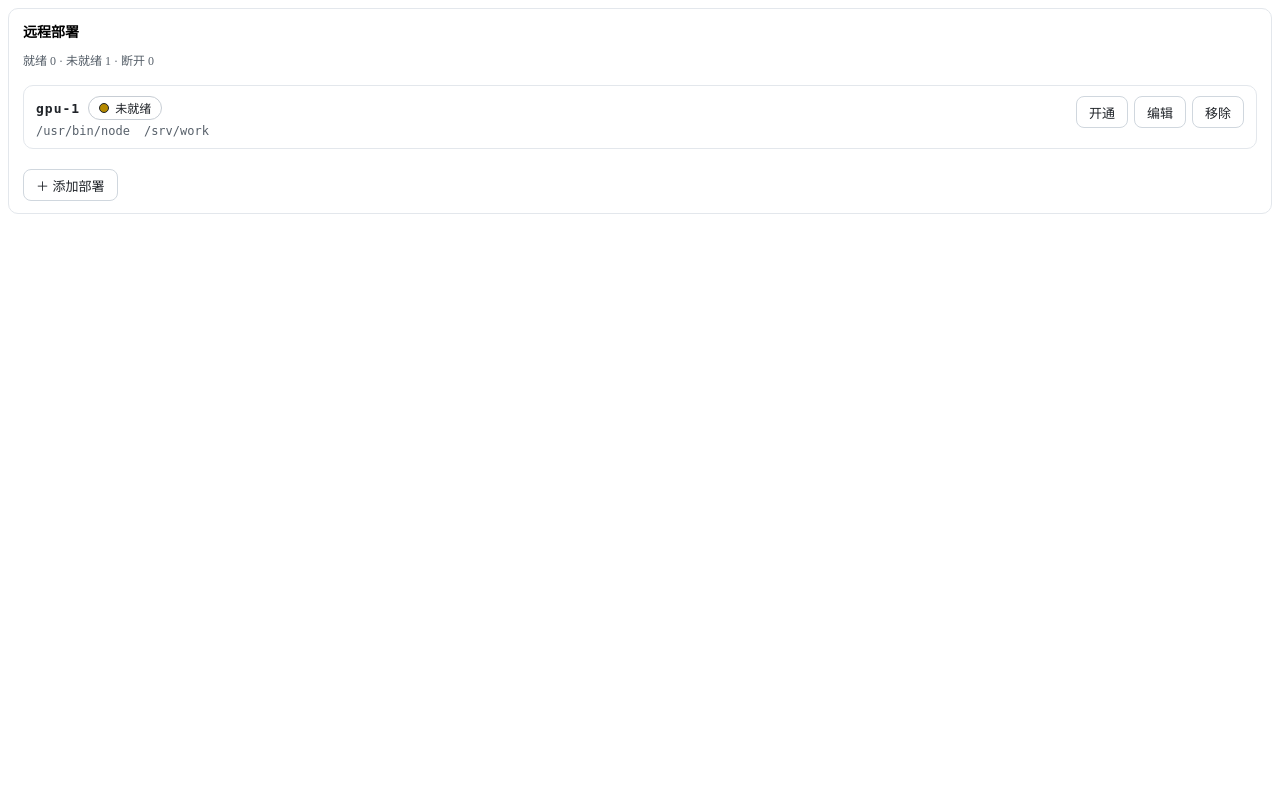
Scenario: DeployFormModal 新增/编辑 › `~` 前缀与重复别名由 host 校验回显（路径不变式）
This screenshot has width=1280, height=800.
Click the button with test id "deploy-add" at (70, 185), box [23,169,118,201]
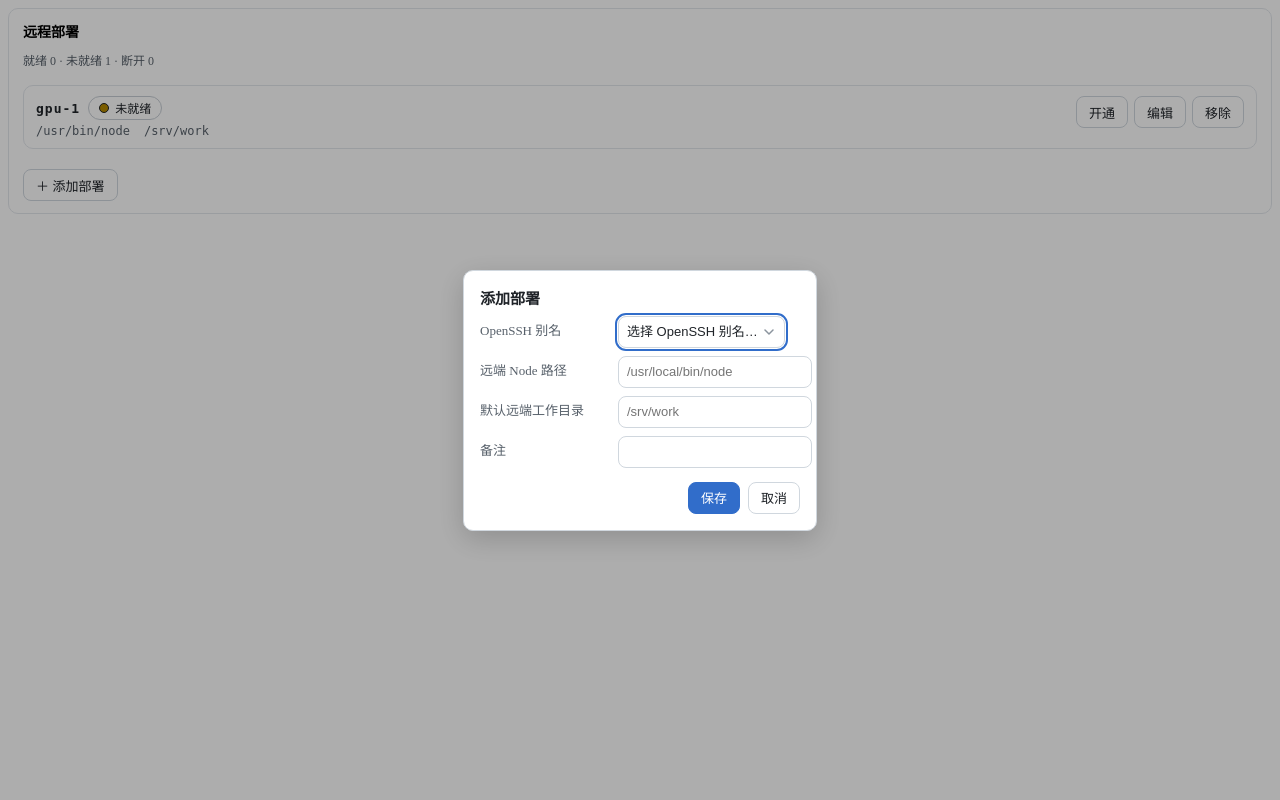
Select "gpu-1" in the dropdown labelled "OpenSSH 别名" at (702, 332), box [618,316,785,348]
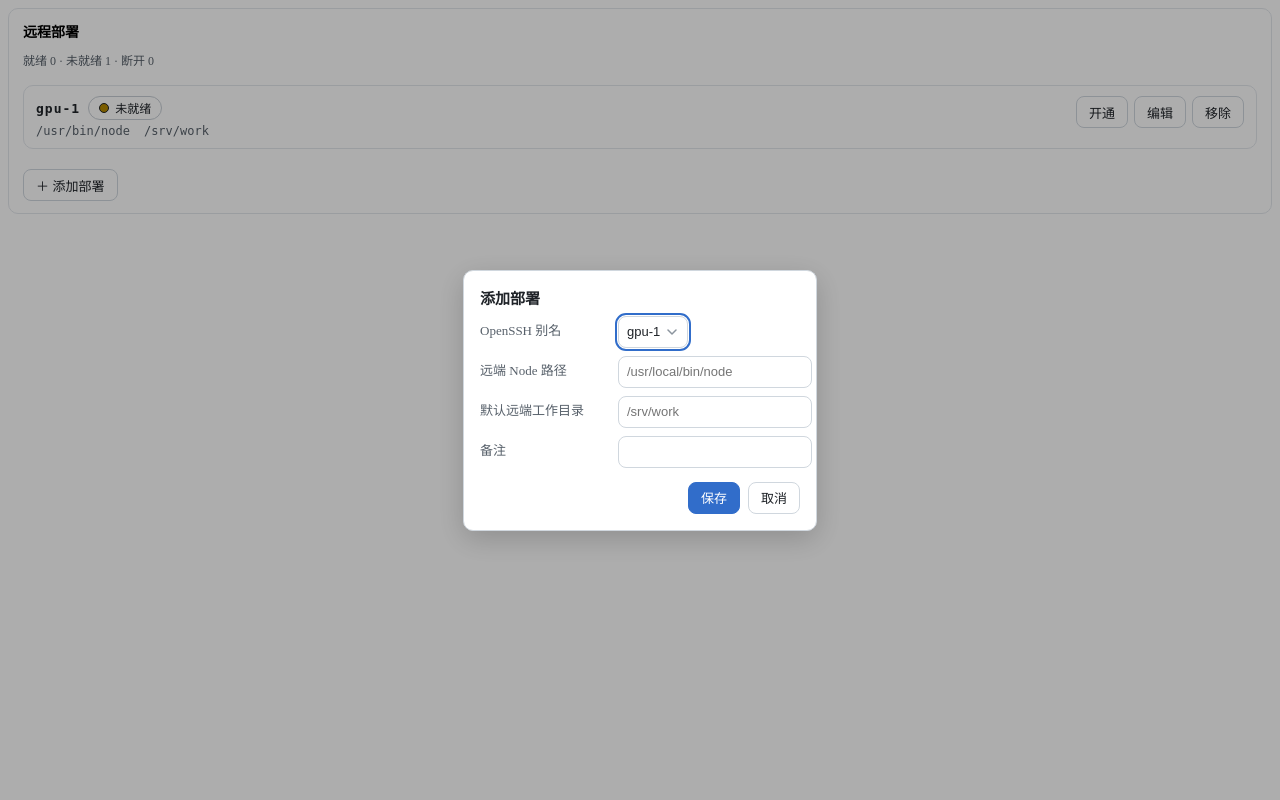
Type "~/bin/node" into the field labelled "远端 Node 路径" at (715, 372), box [618,356,812,388]
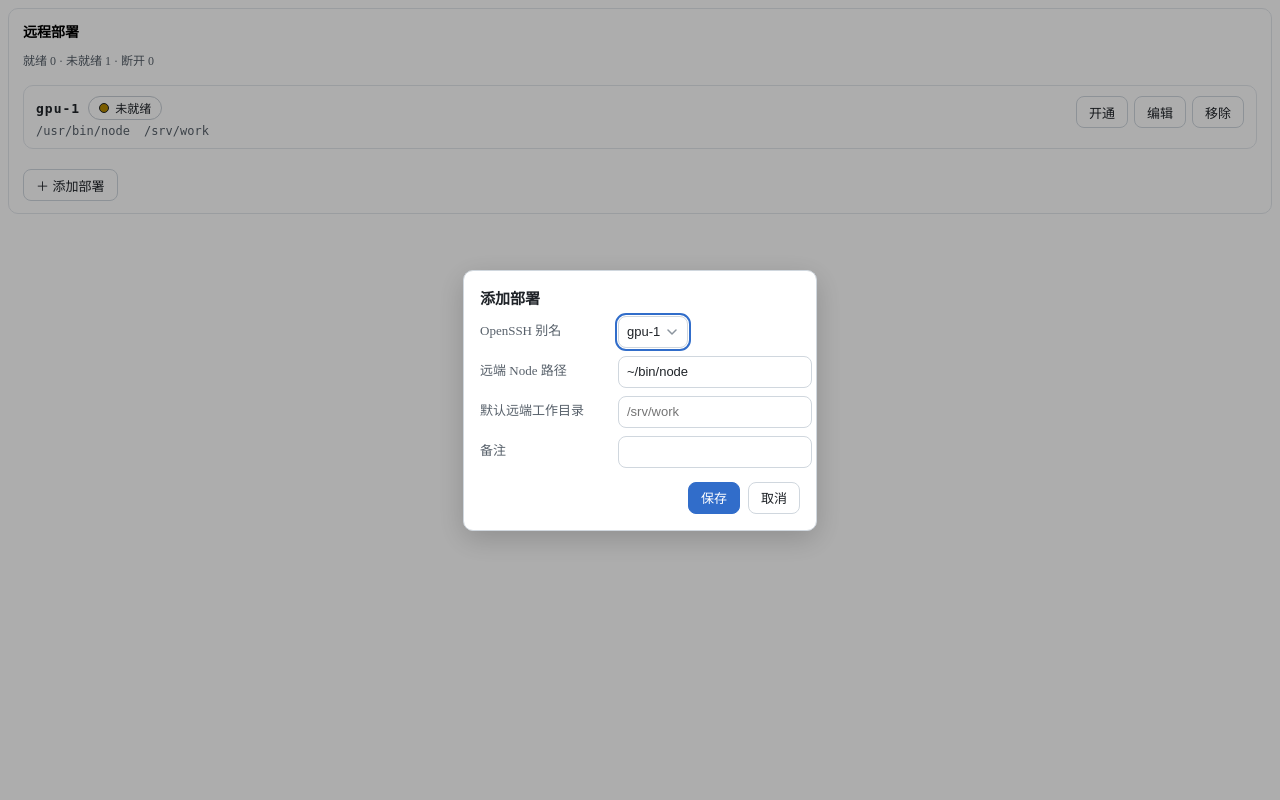
Click the button "保存" at (714, 498), box [688,482,740,514]
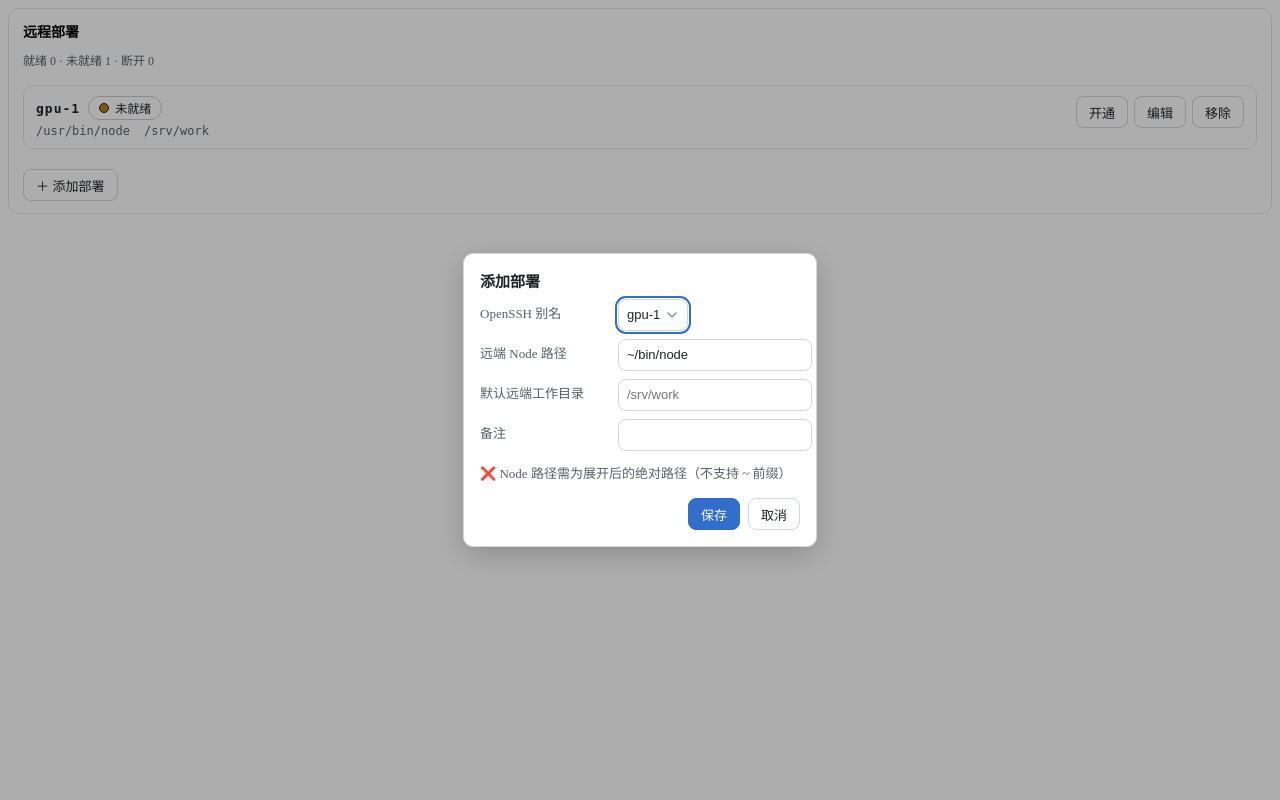
Expected: the message with test id "deploy-form-error" shows "~", [500,466,792,481]
